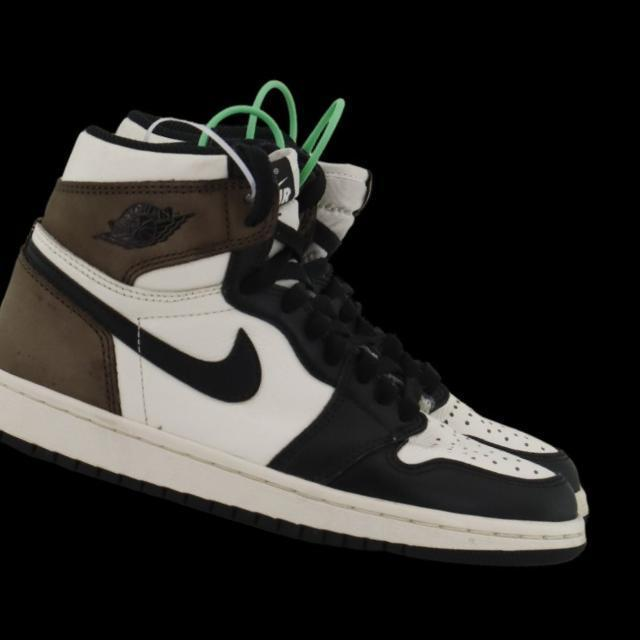nike original jordan 1: (0, 84, 640, 621), (43, 81, 640, 522)
